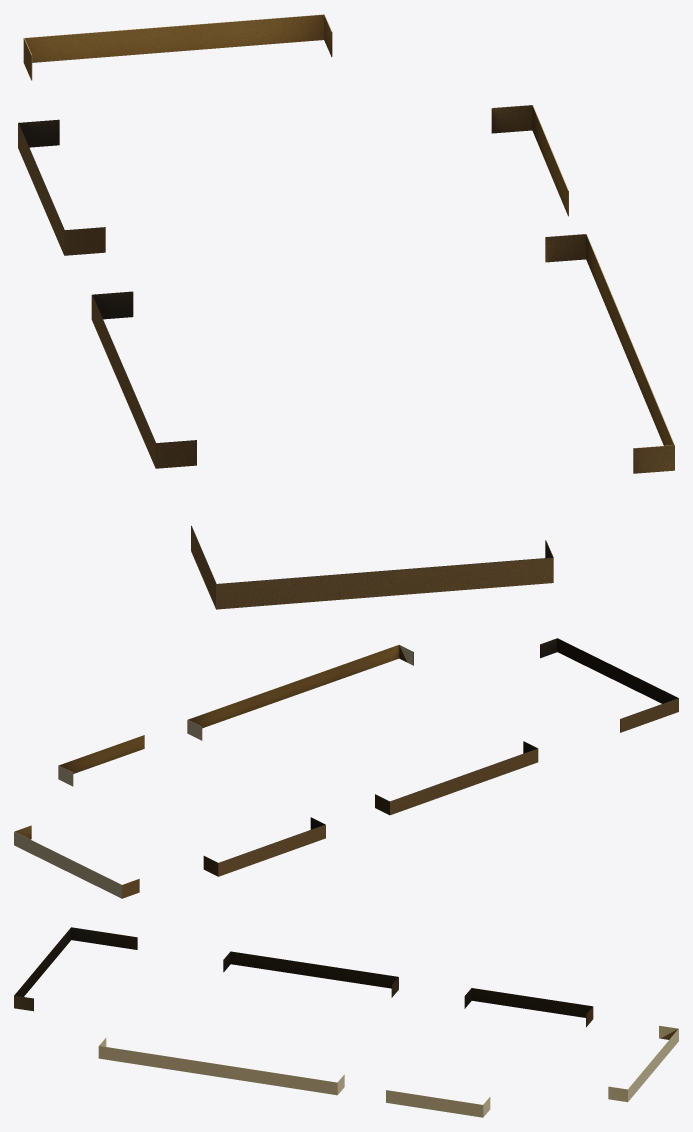
Rendered from Building_LVL03_Balustrade.fbx.
3 views of the same model, one above another, from view 1: azimuth 30°, elevation 25°; view 2: azimuth 150°, elevation 25°; view 3: azimuth 270°, elevation 25° (orthographic). The views are drawn at different scales.
Parts seen in each view (by area): view 1: Building_LVL03_Balustrade; view 2: Building_LVL03_Balustrade; view 3: Building_LVL03_Balustrade.
Boxes of the visible parts, x1,y1,x2,y2 form: Building_LVL03_Balustrade: [18, 14, 674, 609]; Building_LVL03_Balustrade: [14, 638, 678, 898]; Building_LVL03_Balustrade: [14, 927, 678, 1117].
Bounding box in the file's own units: 30.14 × 1 × 47.63.
1 material, 1 textured.
